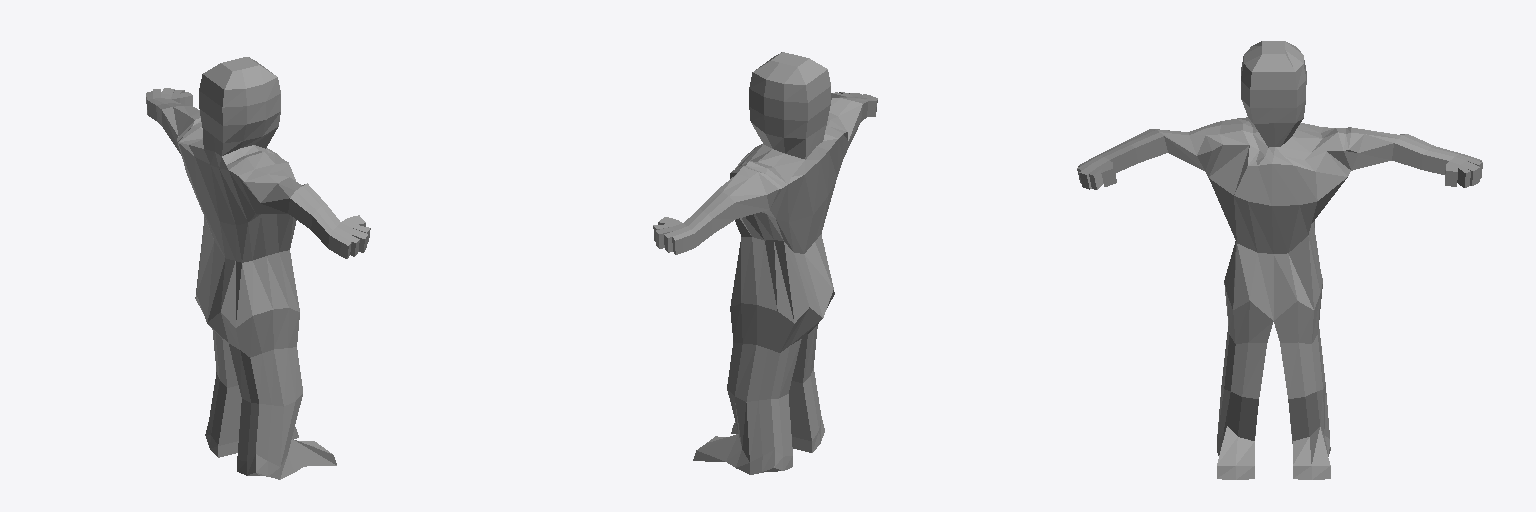
Rendered from BlockHumanT2.obj.
3 renders of one model, left to right at view 1: azimuth 30°, elevation 25°; view 2: azimuth 150°, elevation 25°; view 3: azimuth 270°, elevation 25°, orthographic.
Parts seen in each view (by area): view 1: Cube; view 2: Cube; view 3: Cube.
Part boxes in pixels (bbox=[...]): Cube: bbox=[146, 57, 370, 479]; Cube: bbox=[653, 52, 877, 474]; Cube: bbox=[1077, 41, 1482, 479].
Size of the model in its own units: 3.65 by 13.33 by 12.33.